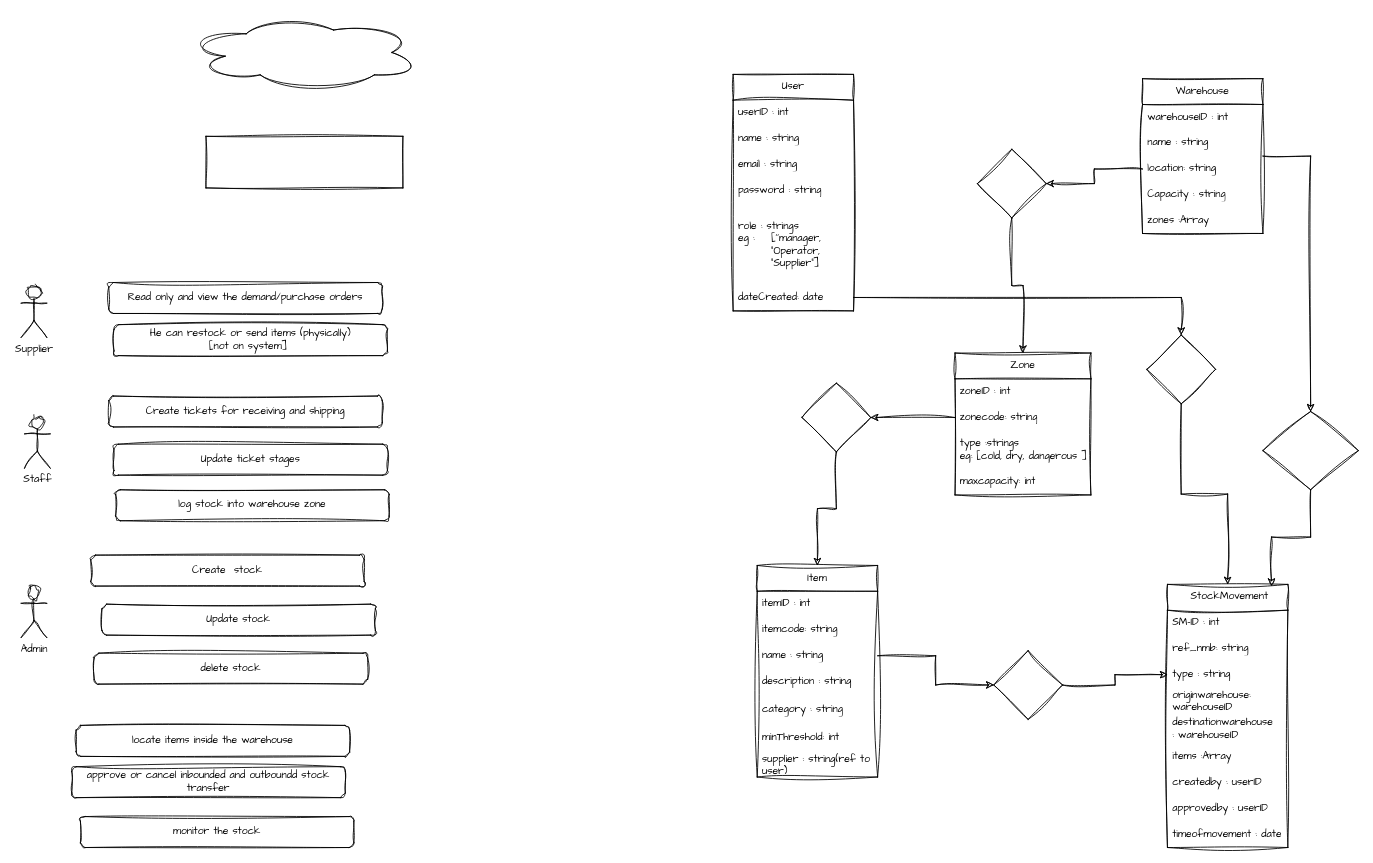
Some shapes in this 1373 by 863 pixel diagram are drawn without their labels. Here are the shapes that lost their labels. From the top down, the centre of each, then its label:
At point 304,52: "StockFlow-Domain Modeling".
At point 304,161: "Personas and actions:".
At point 1011,183: "conatin".
At point 1181,369: "creates".
At point 836,417: "stores".
At point 1310,450: "Supplies / Receives".
At point 1028,684: "includes".
